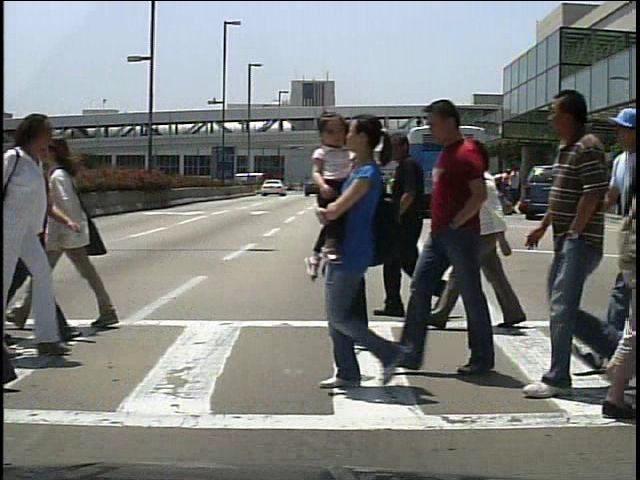person: (422, 99, 513, 373), (306, 120, 409, 347), (2, 113, 83, 366), (36, 115, 125, 338), (455, 139, 525, 340), (374, 130, 447, 322), (582, 168, 602, 218), (505, 166, 525, 215), (493, 164, 511, 217)
